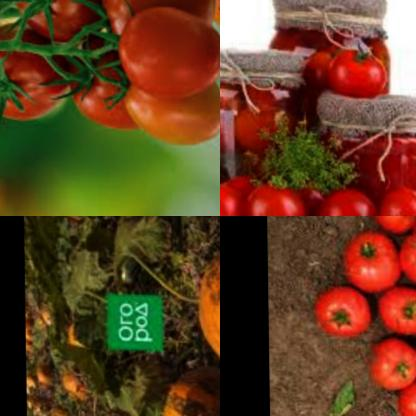pumpkin: (191, 220, 220, 384), (159, 356, 220, 416), (24, 353, 82, 416)
tomato: (109, 4, 220, 100), (105, 60, 219, 144), (43, 35, 138, 123), (0, 20, 66, 129), (341, 227, 408, 290), (11, 0, 111, 42), (93, 0, 217, 31), (323, 37, 384, 94), (318, 281, 373, 341), (244, 174, 312, 216), (369, 331, 416, 389), (311, 180, 379, 216), (382, 282, 416, 333), (373, 181, 416, 216), (220, 174, 248, 216), (400, 234, 416, 286), (398, 377, 416, 416), (370, 216, 416, 231)
